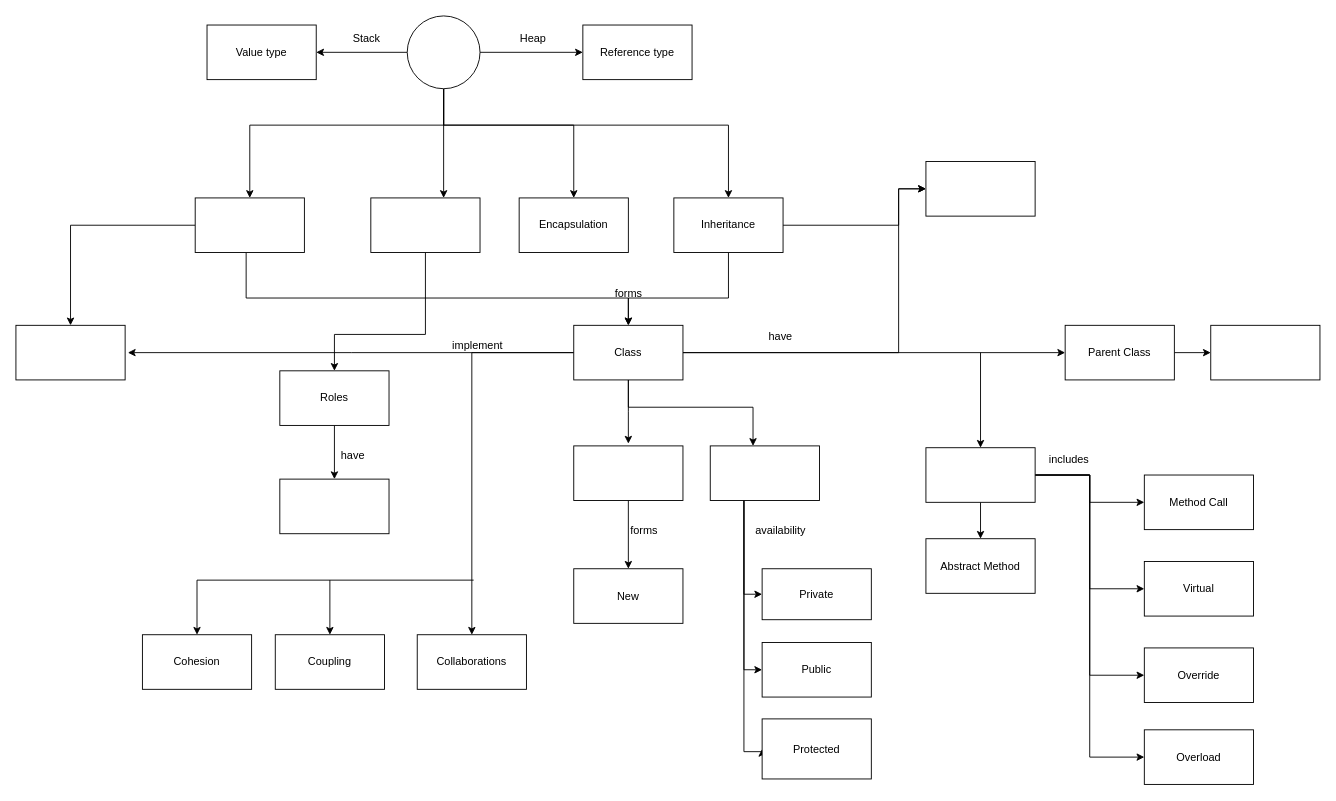
Some shapes in this 1336 by 801 pixel diagram are drawn without their labels. Each missing label, with the centre of its shape:
Abstract class: point (980, 188)
Abstraction: point (425, 225)
Child Class: point (1265, 352)
Field: point (764, 472)
Interface: point (70, 352)
Method: point (980, 474)
Object: point (628, 472)
OOP: point (443, 52)
Polymorphism: point (249, 225)
Responsibility: point (334, 506)
